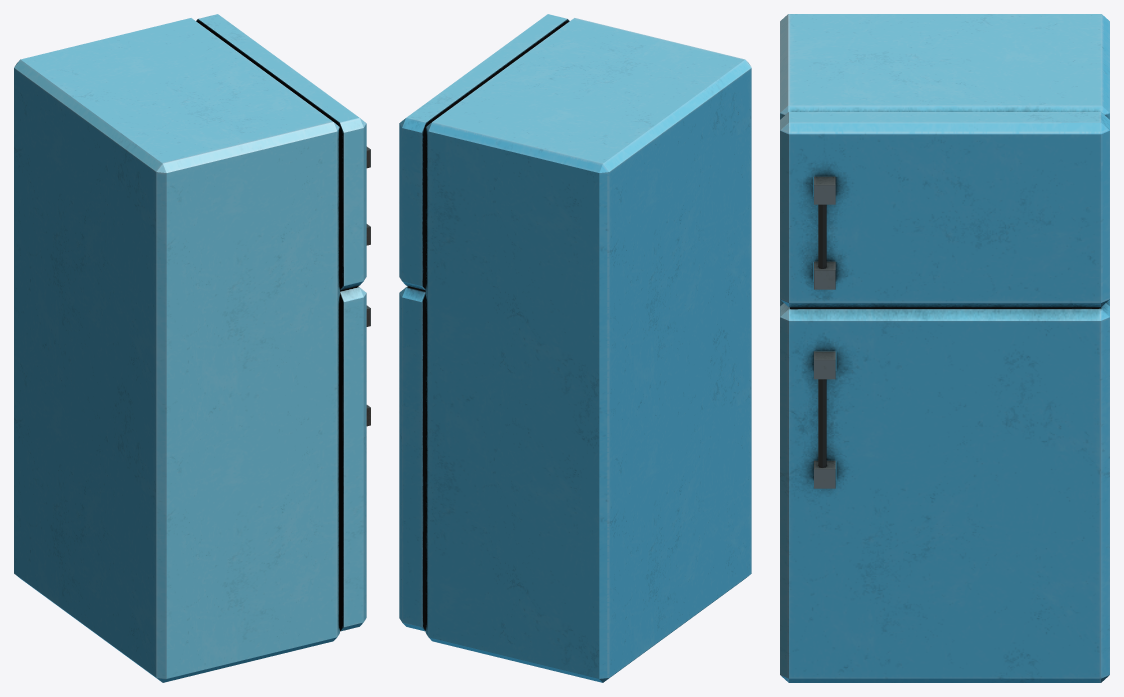
The model's file is Fridge.fbx.
The picture shows the model from 3 angles, left to right: view 1: azimuth 30°, elevation 25°; view 2: azimuth 150°, elevation 25°; view 3: azimuth 270°, elevation 25°; orthographic projection. The views are drawn at different scales.
Parts seen in each view (by area): view 1: pCube52; view 2: pCube52; view 3: pCube52.
Part boxes in pixels (x1,y1,x2,y2): pCube52: (14, 14, 370, 682); pCube52: (399, 14, 751, 682); pCube52: (780, 14, 1109, 682).
Bounding box in the file's own units: 26.52 × 58.17 × 30.42.
1 material, 1 textured.
